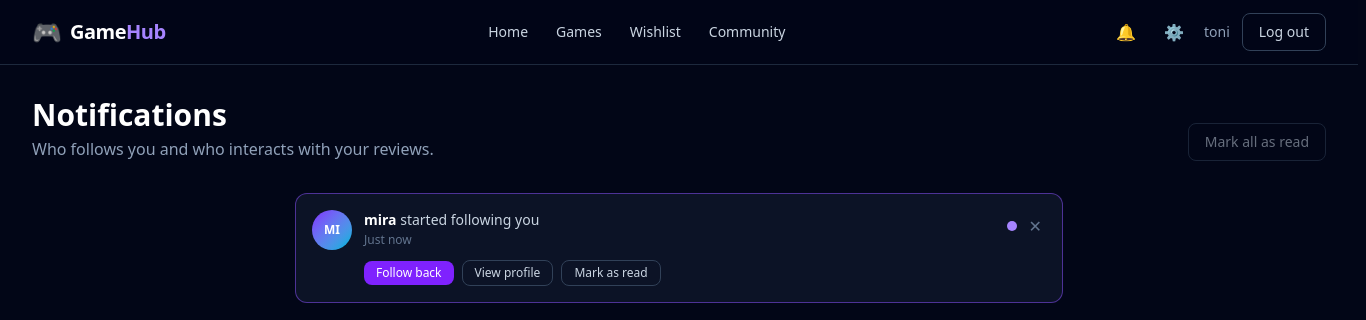
Scenario: NotificationsComponent › follow back › follows the actor, flips the button and marks the notification as read
Click the button "Follow back".
click(409, 273)  # box [364, 261, 454, 285]
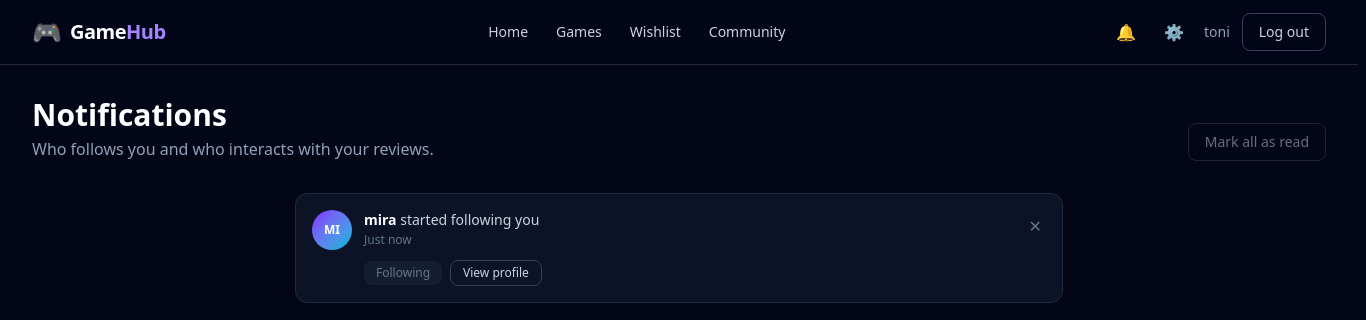
Expected: the link "mira" is shown, [364, 210, 397, 229]
Expected: the button "Following" is disabled, [364, 261, 442, 285]
